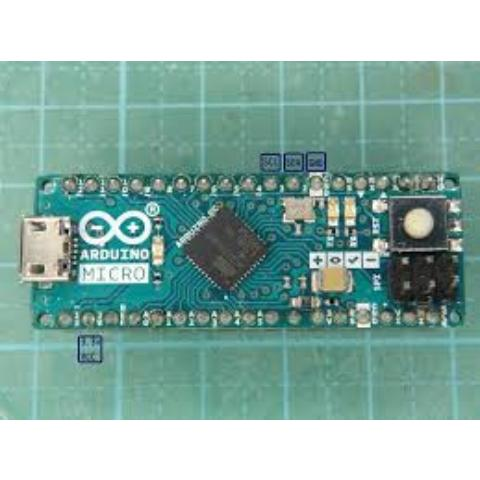Arduino-Micro: (16, 170, 466, 330)
